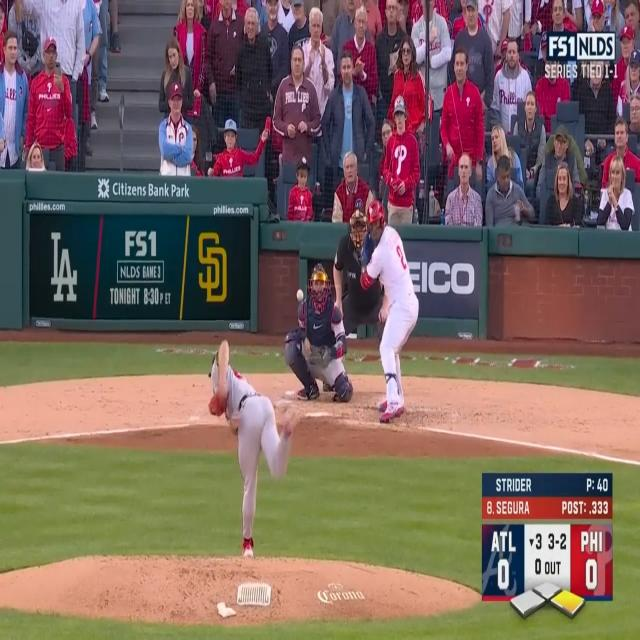baseball: (297, 289, 303, 301)
